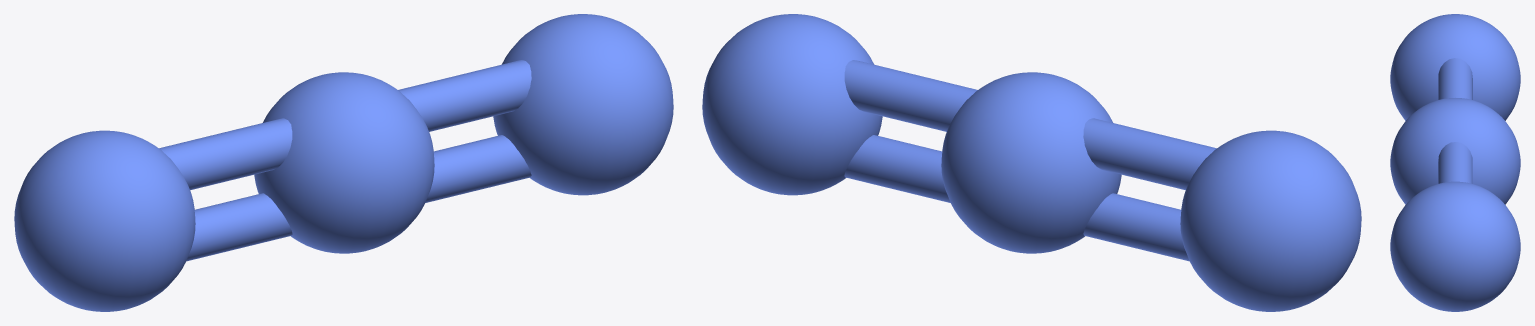
Rendered from azide.fbx.
The picture shows the model from 3 angles, left to right: view 1: azimuth 30°, elevation 25°; view 2: azimuth 150°, elevation 25°; view 3: azimuth 270°, elevation 25°; orthographic projection. The views are drawn at different scales.
Visible parts, largest first — view 1: Nitrogen-L, Nitrogen-Center, Nitrogen-Right, Center-Left bond, Center-Right bond; view 2: Nitrogen-L, Nitrogen-Right, Nitrogen-Center, Center-Left bond, Center-Right bond; view 3: Nitrogen-Right, Nitrogen-Center, Nitrogen-L, Center-Right bond, Center-Left bond.
Part boxes in pixels (bbox=[...]): Nitrogen-L: bbox=[14, 130, 195, 311]; Nitrogen-Center: bbox=[254, 72, 434, 253]; Nitrogen-Right: bbox=[493, 14, 673, 195]; Center-Left bond: bbox=[159, 118, 292, 261]; Center-Right bond: bbox=[398, 60, 531, 202]; Nitrogen-L: bbox=[1180, 130, 1361, 311]; Nitrogen-Right: bbox=[702, 14, 882, 195]; Nitrogen-Center: bbox=[941, 72, 1121, 253]; Center-Left bond: bbox=[1083, 118, 1216, 261]; Center-Right bond: bbox=[844, 60, 977, 202]; Nitrogen-Right: bbox=[1390, 181, 1520, 311]; Nitrogen-Center: bbox=[1390, 98, 1520, 204]; Nitrogen-L: bbox=[1390, 14, 1520, 120]; Center-Right bond: bbox=[1438, 142, 1472, 183]; Center-Left bond: bbox=[1438, 58, 1472, 99].
Size of the model in its own units: 303 by 75 by 75.
